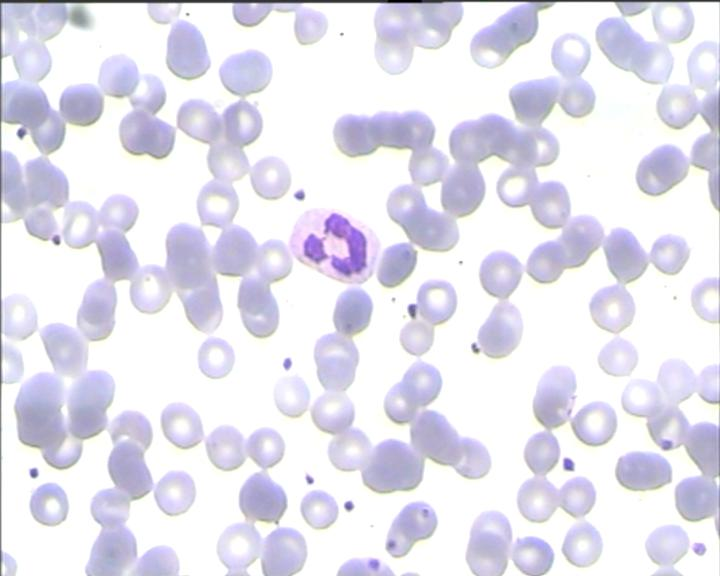neut: (283, 204, 385, 283)
